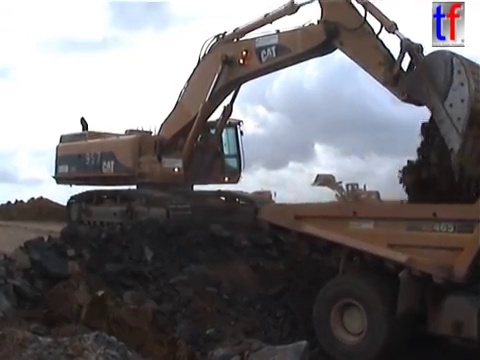excavator: (49, 1, 480, 237)
truck: (252, 194, 480, 360)
wheel loader: (307, 170, 388, 215)
